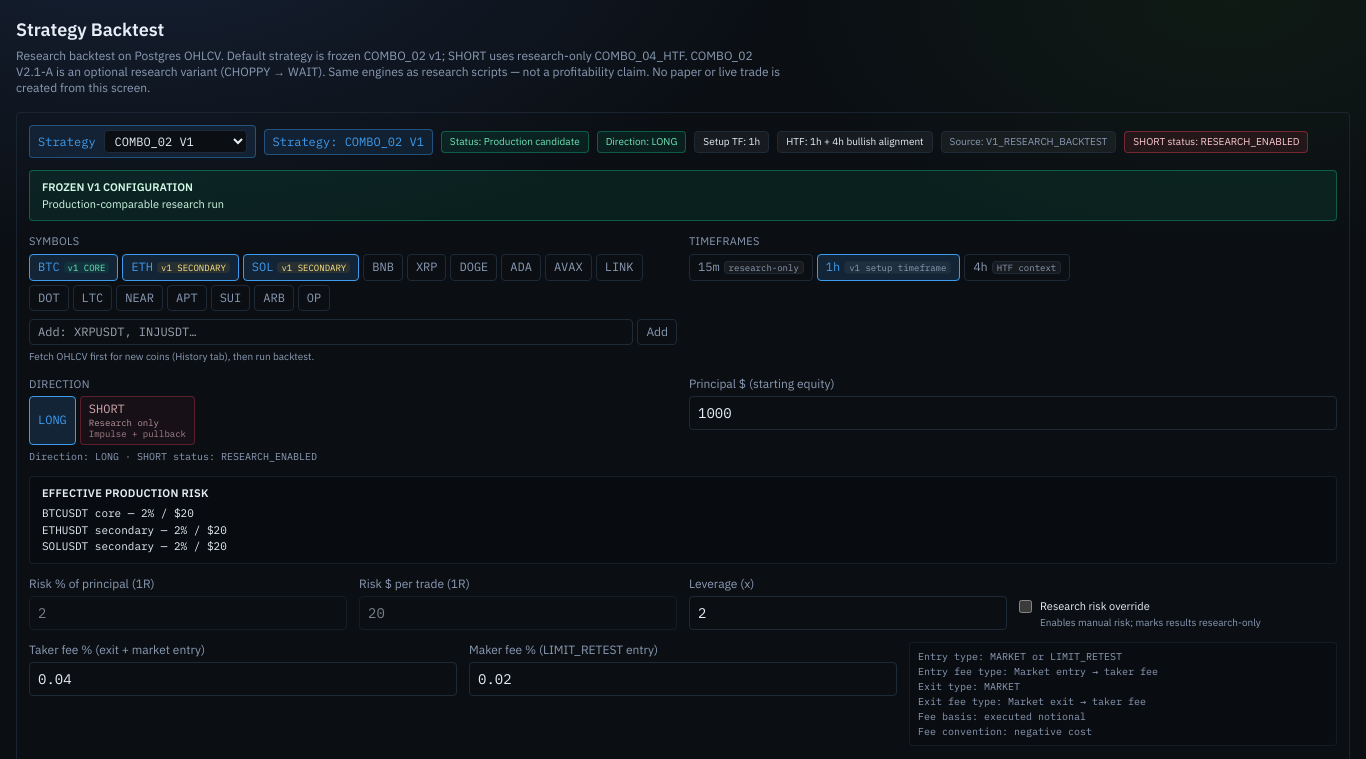
Test: BacktestPanel interaction paths › 10. 4h mismatch warning
Click the button "1hv1 setup timeframe". click: (889, 267)
box: [817,254,960,280]
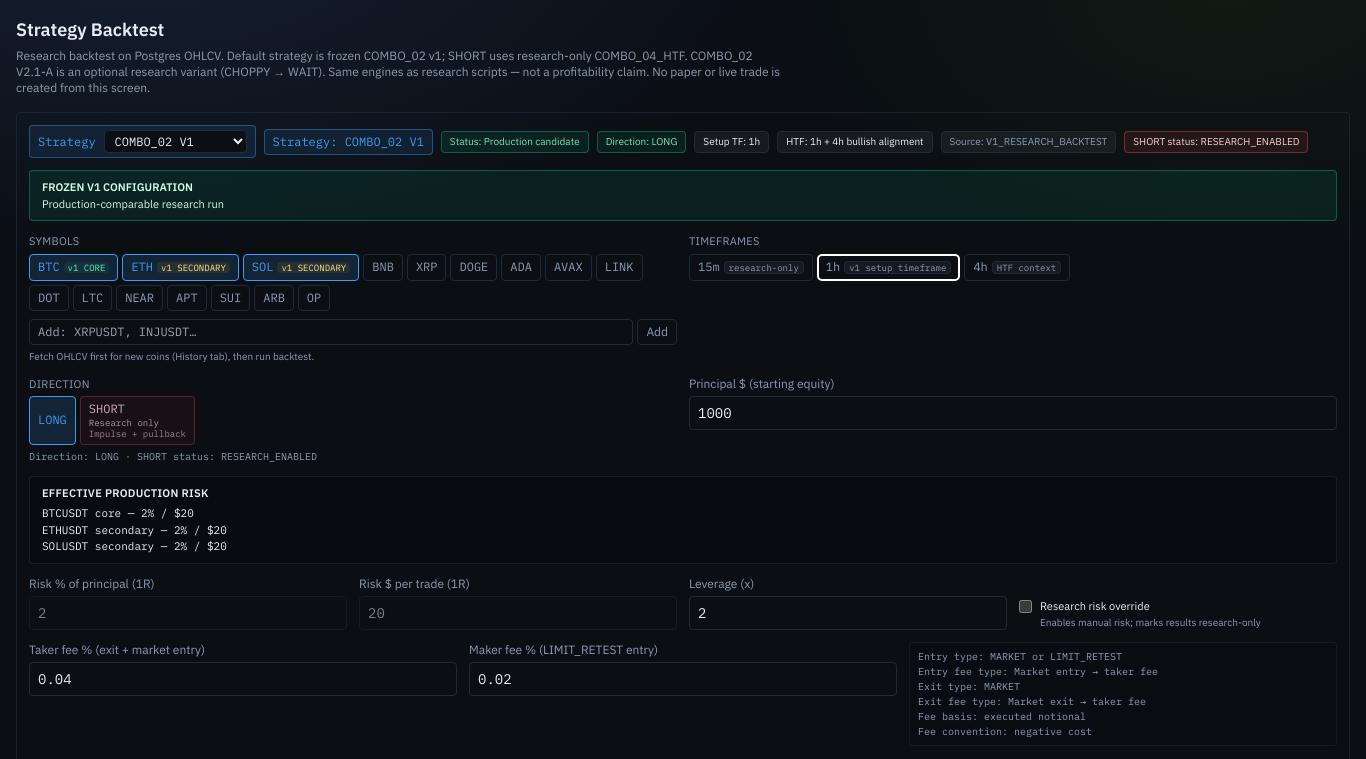
Click the button with aria-label "4h — HTF context". click: (1017, 267)
box: [964,254,1070,280]
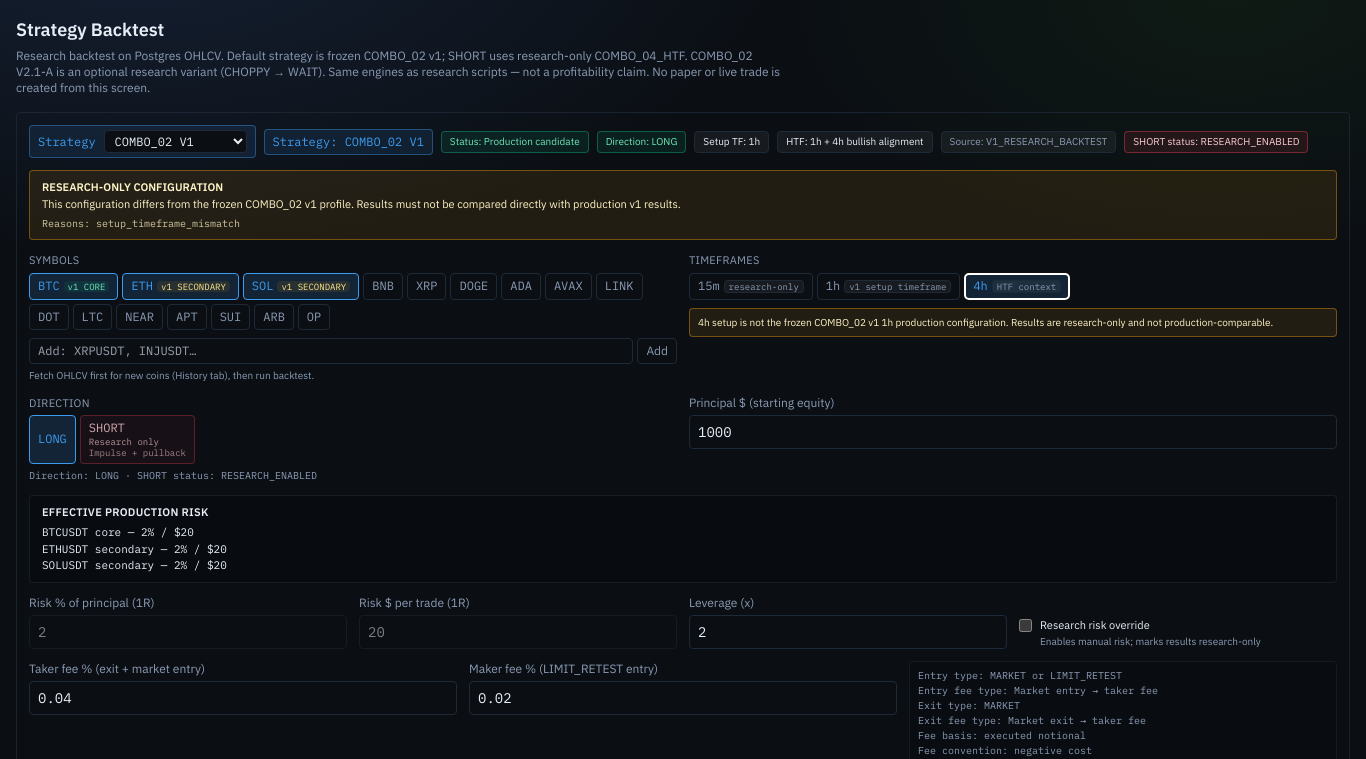
Expected: the text "4h setup is not the frozen COMBO_02 v1 1h production configuration" is shown, [698,316,1273,328]
Expected: the text "RESEARCH-ONLY CONFIGURATION" is shown, [42,180,223,194]
